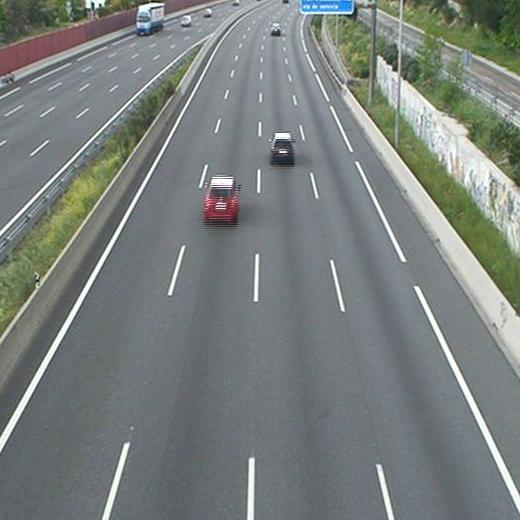car: (202, 175, 240, 224), (269, 132, 295, 166), (271, 24, 281, 37)
